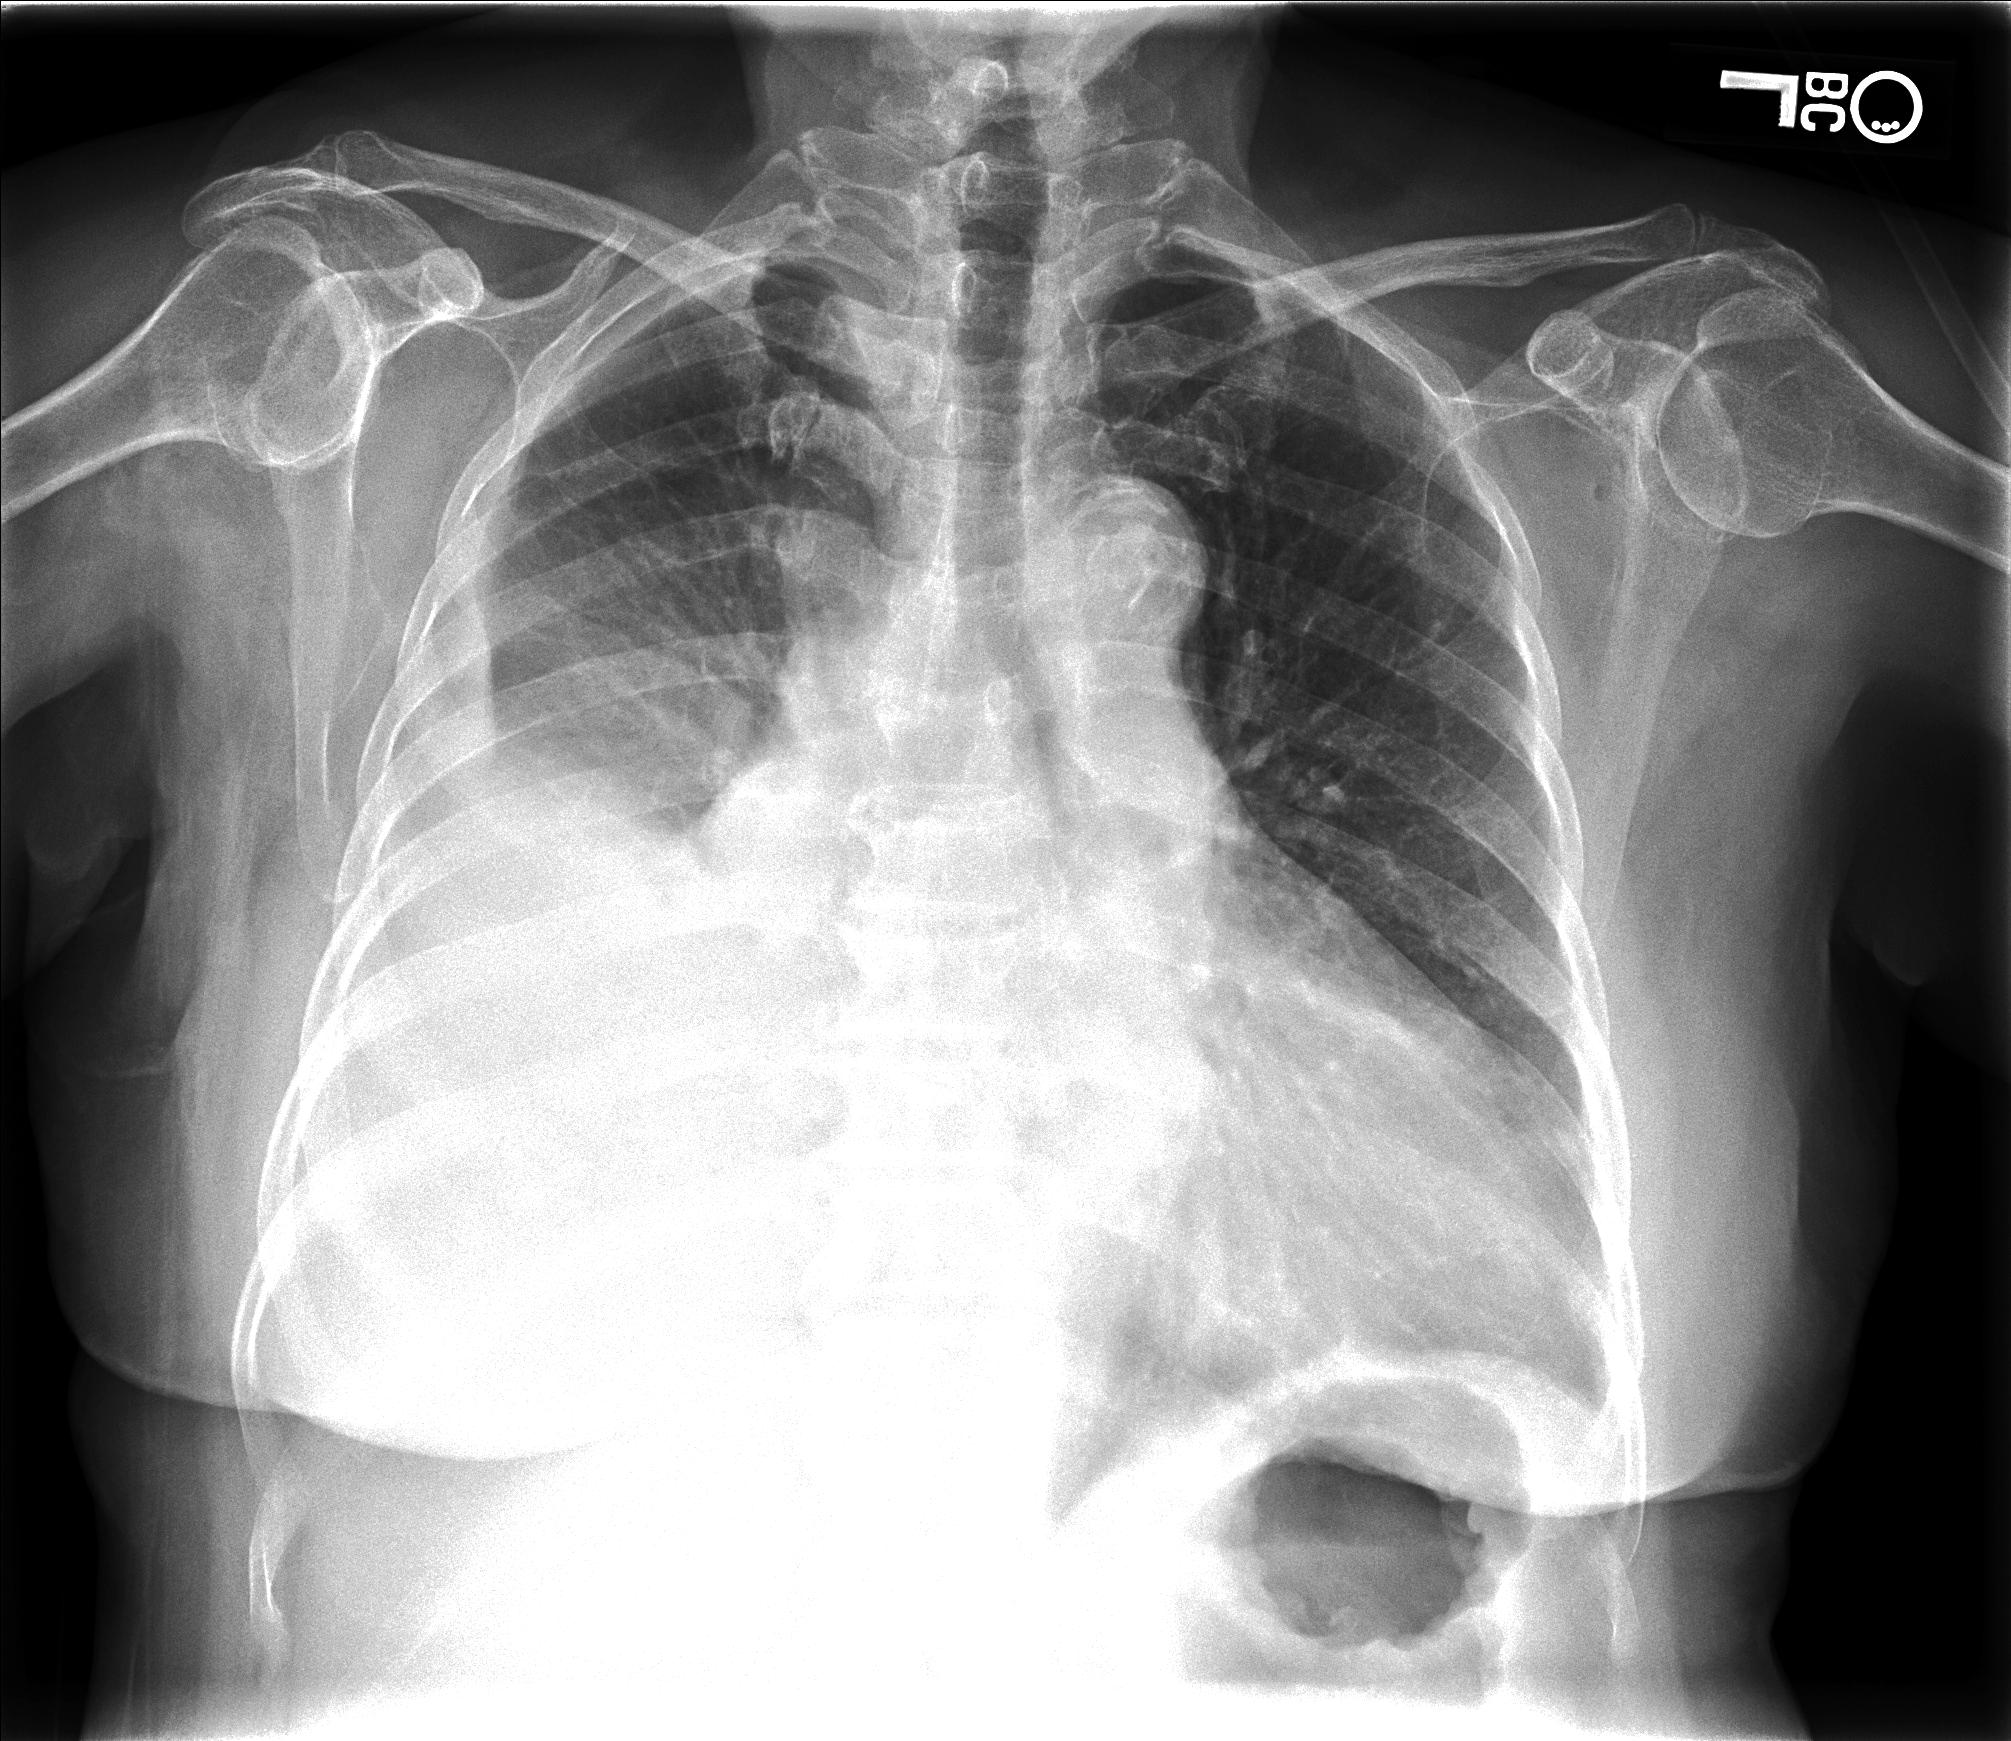Pleural Effusion: (262, 645, 669, 1366)
